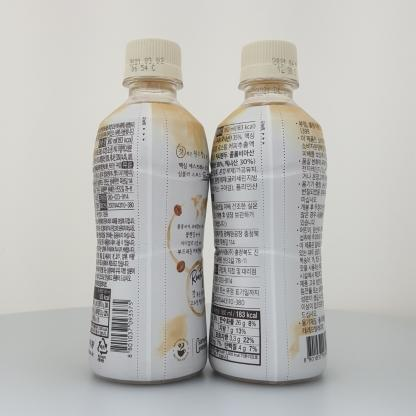--------TOP-----------: (89, 38, 210, 384), (208, 40, 327, 385)
